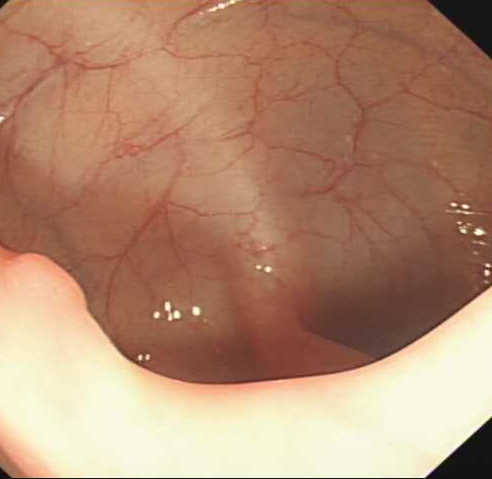others: (12, 249, 88, 313)
